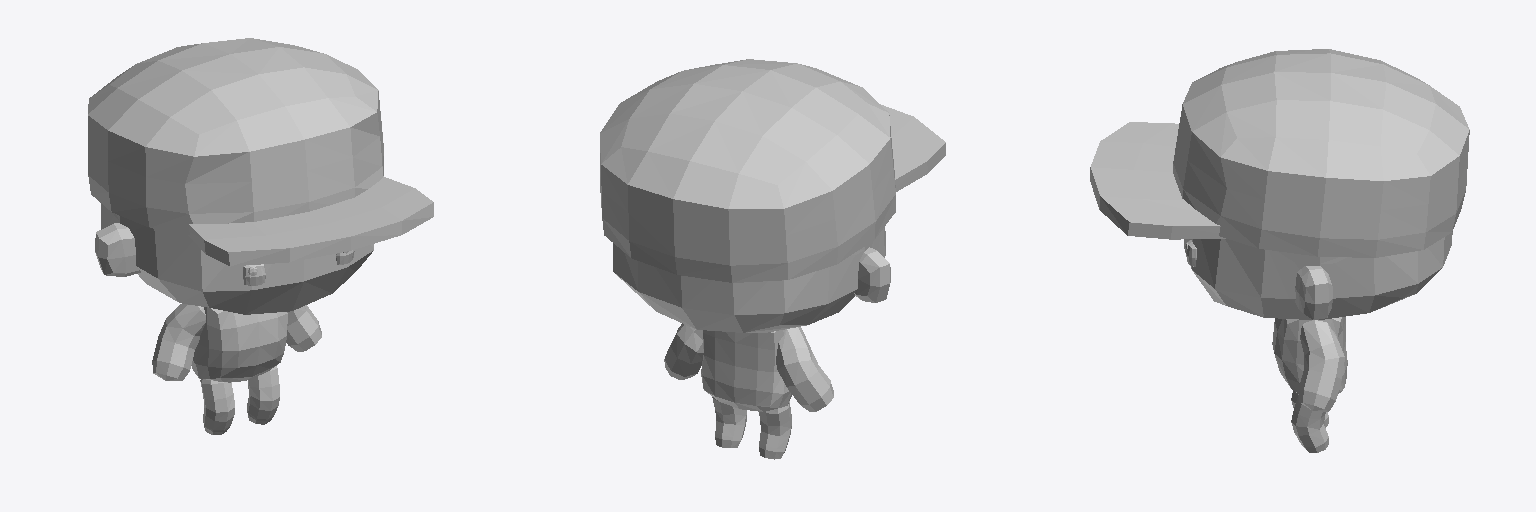
File: idle_0006.obj
The picture shows the model from 3 angles: view 1: azimuth 30°, elevation 25°; view 2: azimuth 150°, elevation 25°; view 3: azimuth 270°, elevation 25°; orthographic projection.
Visible parts, largest first — view 1: Object_41, Object_42, Object_36, Object_44, Object_38; view 2: Object_41, Object_36, Object_44, Object_42; view 3: Object_41, Object_36, Object_42, Object_44.
Part boxes in pixels (x1,y1,x2,y2): Object_41: (88, 38, 383, 234); Object_42: (185, 113, 433, 266); Object_36: (95, 203, 373, 314); Object_44: (152, 304, 321, 434); Object_38: (243, 250, 354, 285); Object_41: (600, 59, 895, 282); Object_36: (613, 227, 890, 332); Object_44: (664, 323, 833, 459); Object_42: (880, 104, 945, 191); Object_41: (1183, 49, 1469, 257); Object_36: (1184, 232, 1452, 319); Object_42: (1090, 104, 1226, 239); Object_44: (1272, 317, 1347, 452).
Size of the model in its own units: 0.9691 by 1.21 by 1.14.